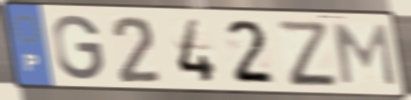2: (109, 13, 165, 85), (223, 18, 275, 87)
4: (175, 16, 218, 85)
G: (50, 13, 106, 82)
M: (330, 21, 399, 89)
Z: (273, 18, 341, 88)
